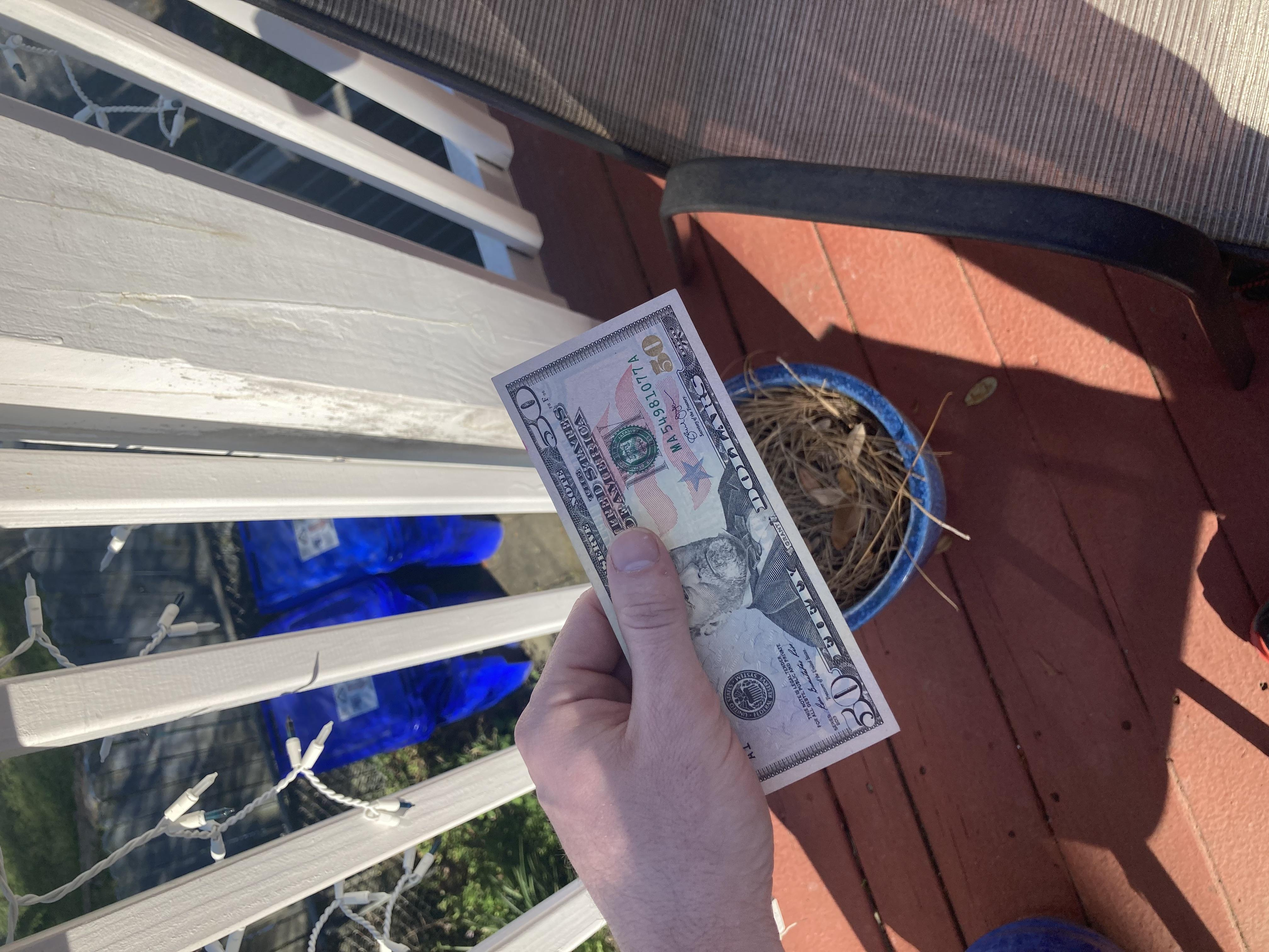fifty-front: (179, 367, 886, 675)
